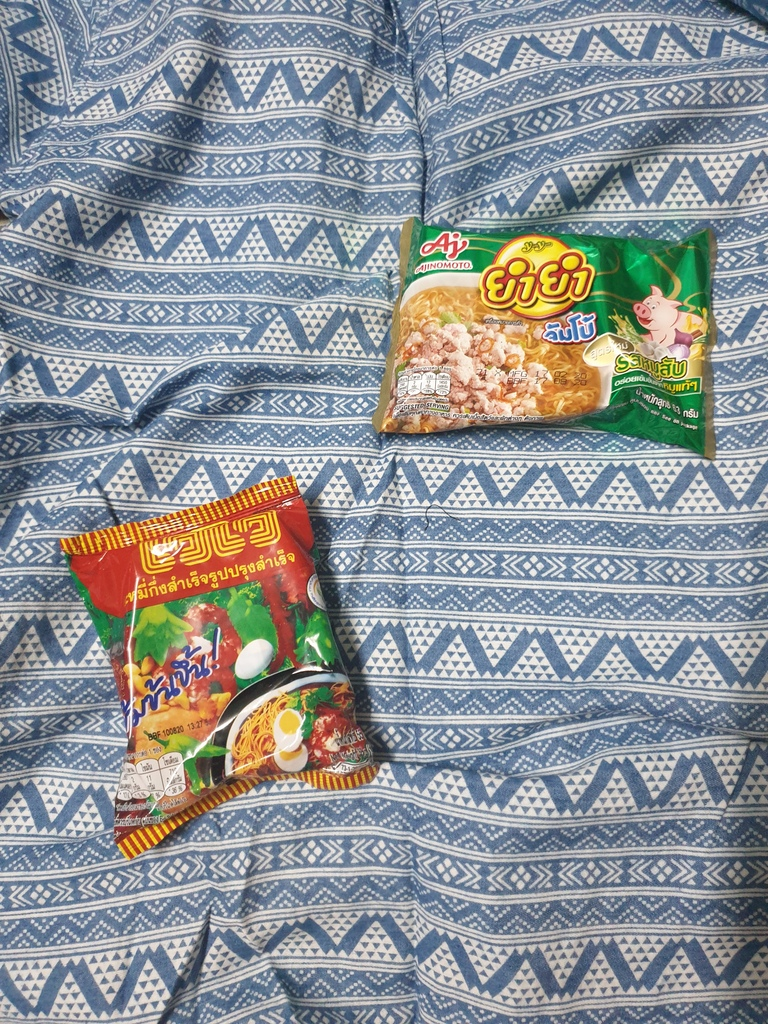waiwai: (61, 503, 380, 796)
yumyum: (392, 213, 725, 456)
